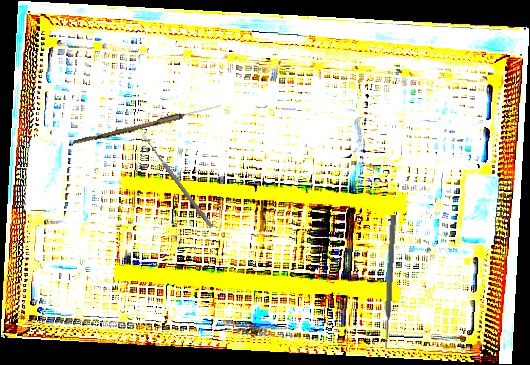Pusher: (381, 214, 398, 350)
Surgical Spoon: (140, 132, 214, 229), (72, 101, 223, 148)
